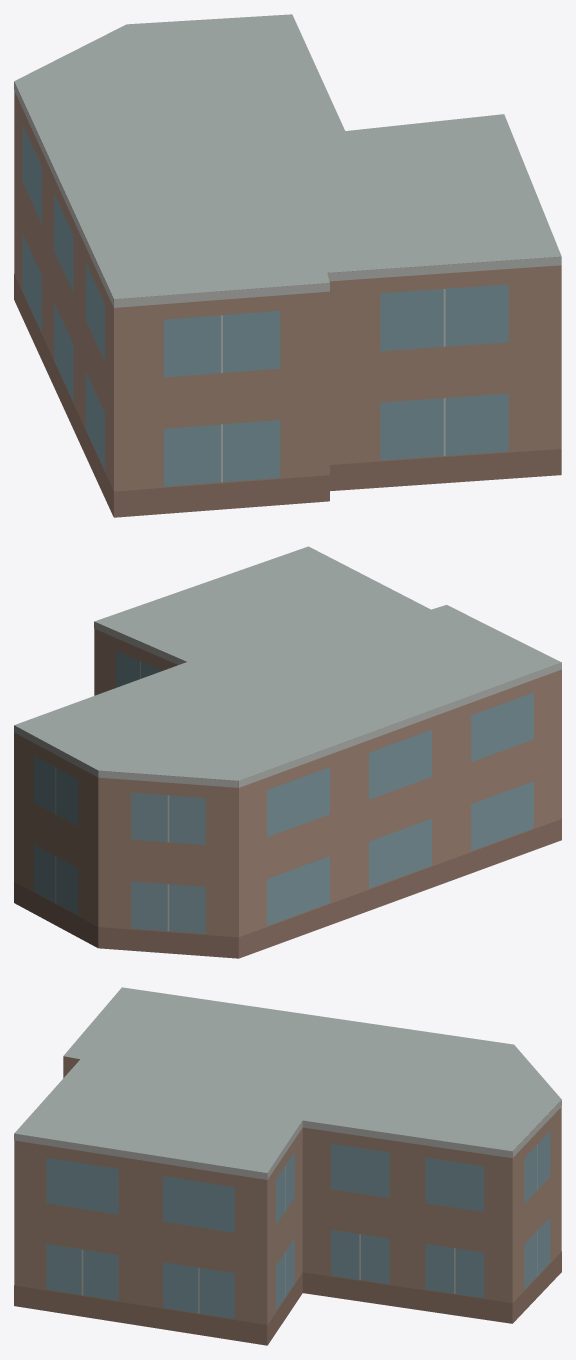
The model's file is survey-upis-32873519.glb.
3 renders of one model, top to bottom at view 1: azimuth 30°, elevation 25°; view 2: azimuth 150°, elevation 25°; view 3: azimuth 270°, elevation 25°, orthographic. The views are drawn at different scales.
Visible parts, largest first — view 1: survey-upis-32873519.tmp; view 2: survey-upis-32873519.tmp; view 3: survey-upis-32873519.tmp.
Boxes of the visible parts, left/top/right/bottom form: survey-upis-32873519.tmp: left=14, top=14, right=561, bottom=517; survey-upis-32873519.tmp: left=14, top=546, right=561, bottom=958; survey-upis-32873519.tmp: left=14, top=987, right=561, bottom=1345.
Size of the model in its own units: 14.11 by 6.1 by 17.57.
